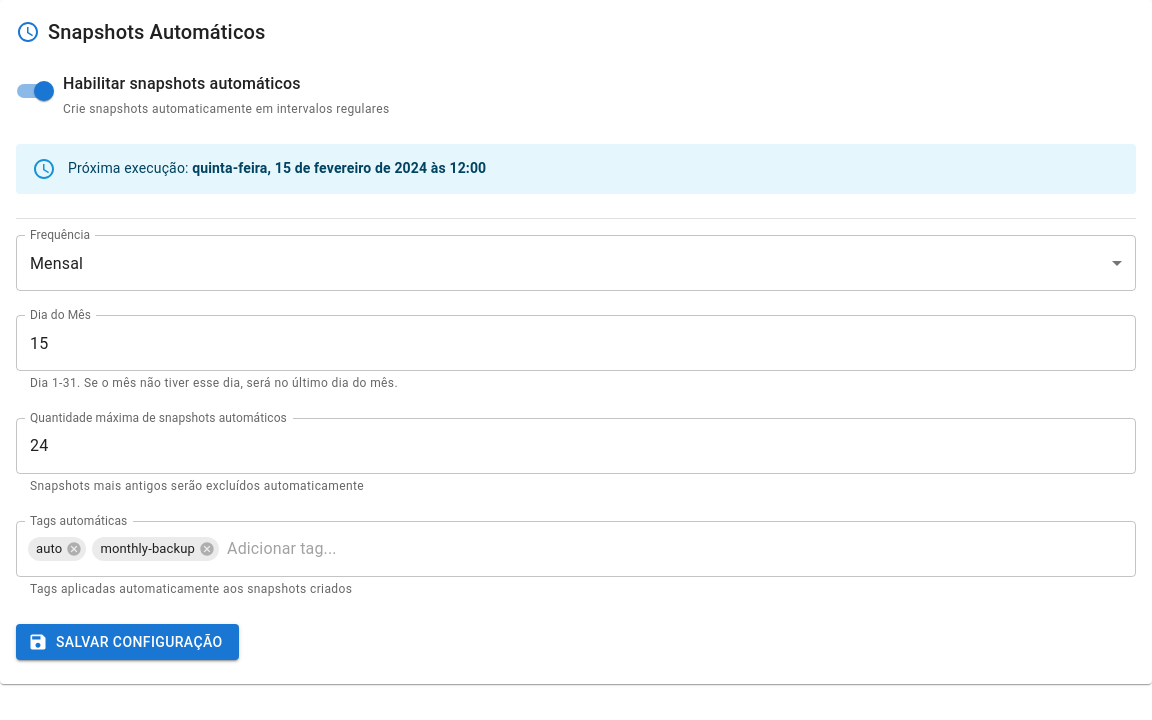
Test case: SnapshotScheduleForm › Form Interactions › changes frequency and shows correct fields
The image size is (1152, 720).
Replace the text in the field showing "monthly" with "weekly" at (576, 263), box [16, 235, 1136, 291]
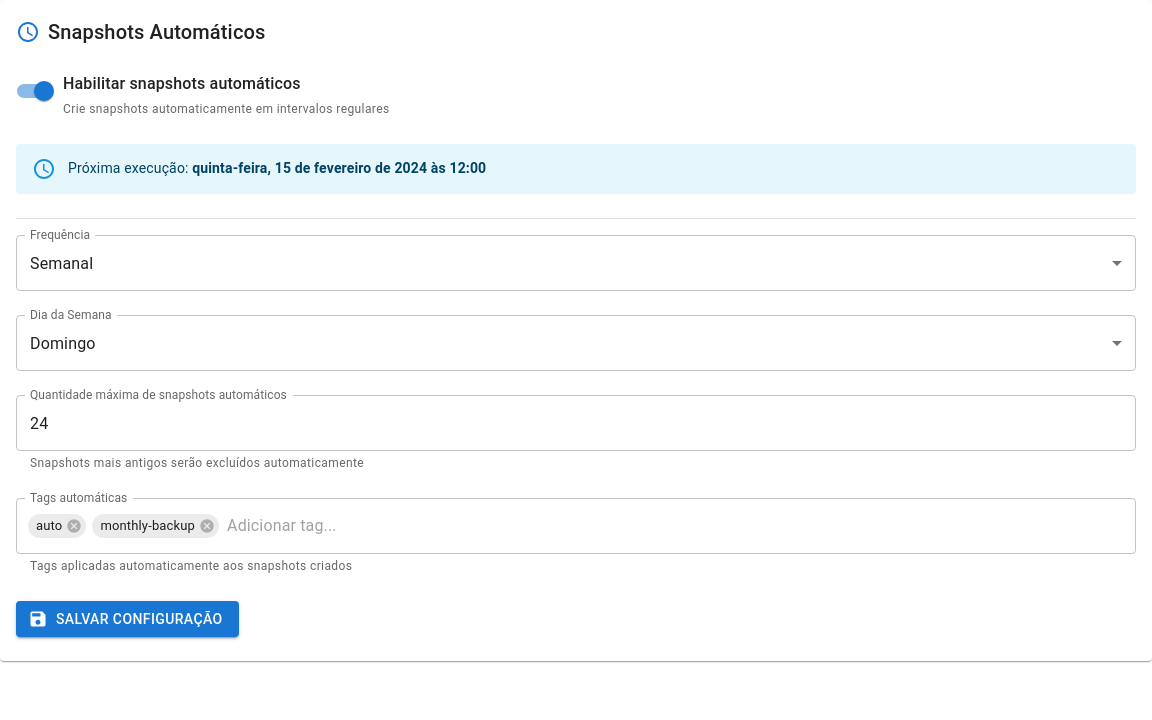
Check: the dropdown "Domingo" is shown, box [30, 334, 96, 352]
Check: the text "Dia do Mês" is gone
